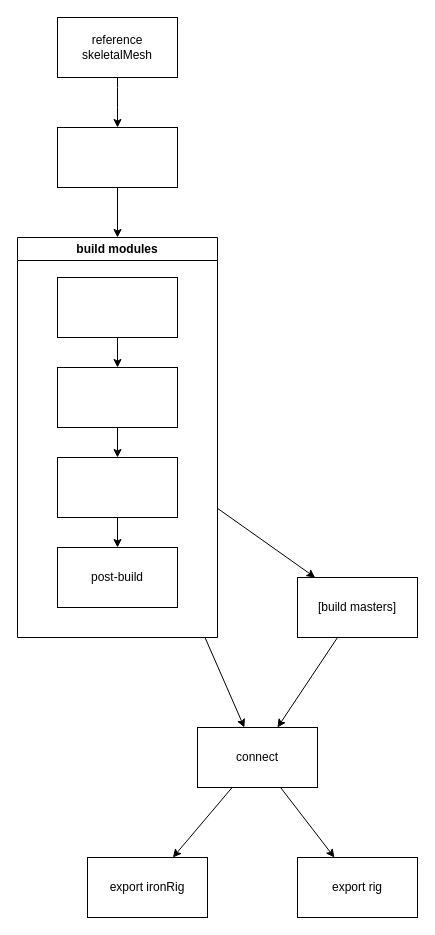
Some shapes in this 435 by 935 pixel diagram are drawn without their labels. Each missing label, with the centre of its shape:
"[import ironRig]" goes at pixel 117 157.
"build" goes at pixel 117 487.
"guide" goes at pixel 117 307.
"pre-build" goes at pixel 117 397.
